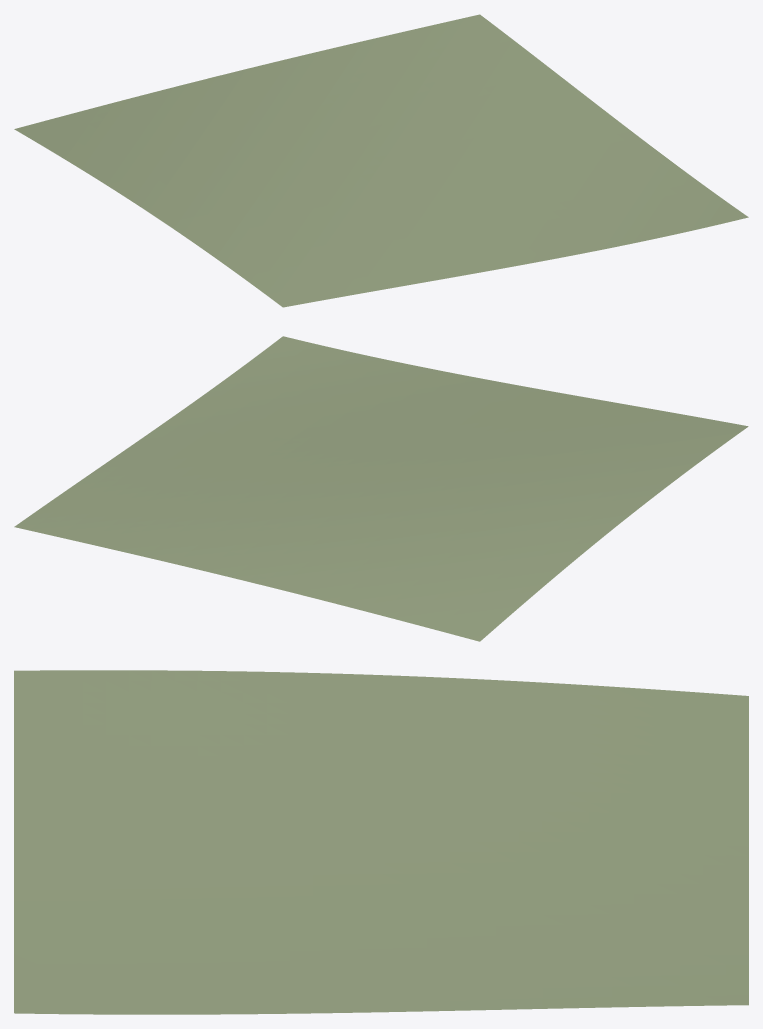
Rendered from alpine-1-6.glb.
The picture shows the model from 3 angles, top to bottom: view 1: azimuth 30°, elevation 25°; view 2: azimuth 150°, elevation 25°; view 3: azimuth 270°, elevation 25°; orthographic projection. The views are drawn at different scales.
Parts seen in each view (by area): view 1: alpine-1-6; view 2: alpine-1-6; view 3: alpine-1-6.
Part boxes in pixels (x1,y1,x2,y2): alpine-1-6: (14,14,748,307); alpine-1-6: (14,336,748,641); alpine-1-6: (14,670,748,1014).
Bounding box in the file's own units: 256 × 13.01 × 256.
